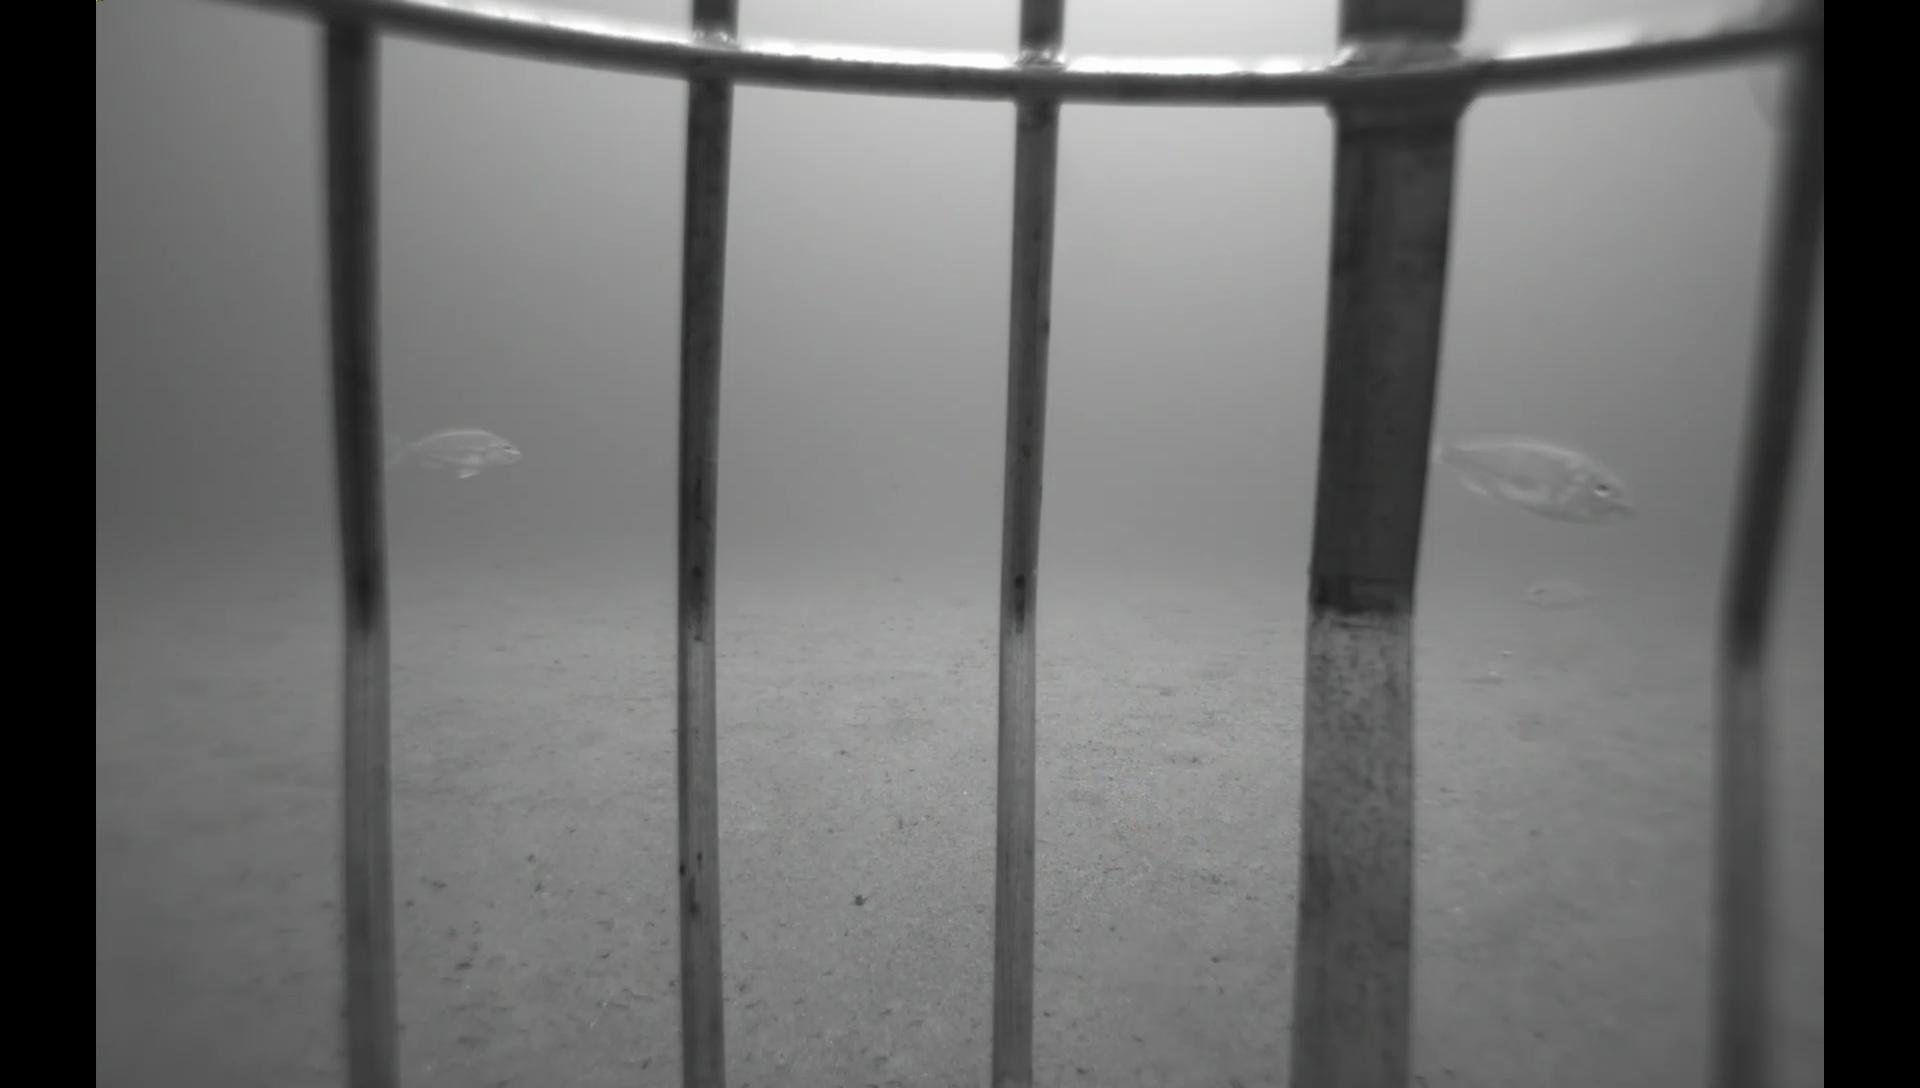PAGRUSPAGRUS-170212302: (1513, 562, 1619, 622)
PRISTIPOMOIDES-170151800: (1427, 398, 1644, 545), (378, 415, 526, 487)
